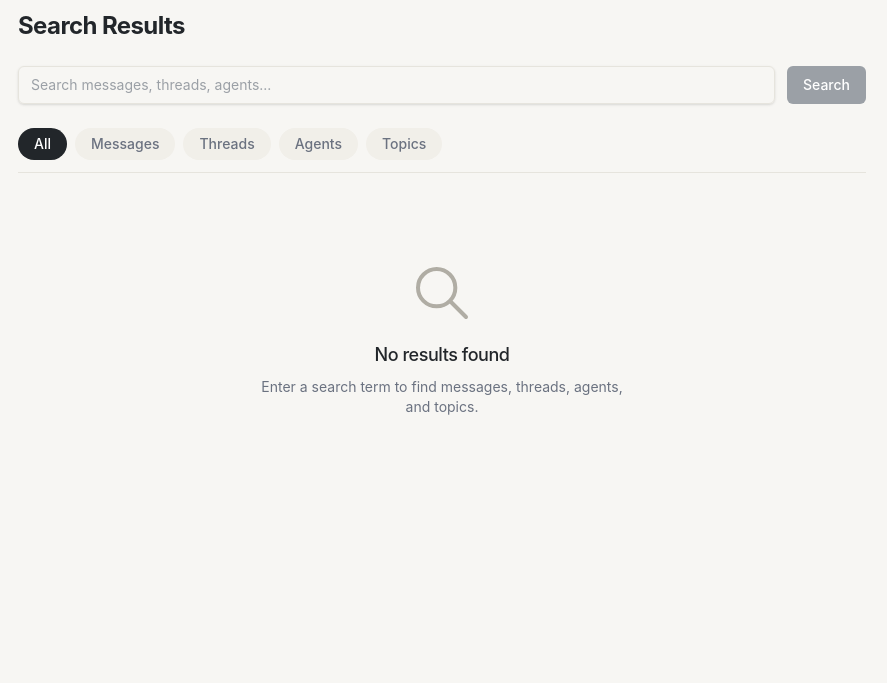
SearchResultsPage › search functionality › submits search form
The image size is (887, 683).
Type "test" into the field with placeholder "Search messages, threads, agents..." at (396, 85), box [18,66,775,104]
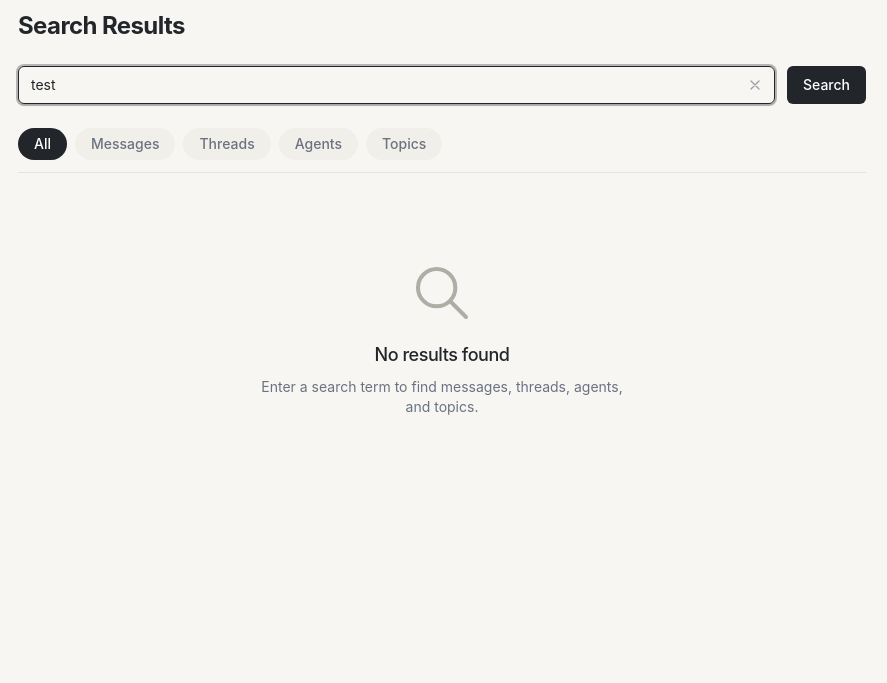
Click the button "Search" at (826, 85), box [787,66,866,104]
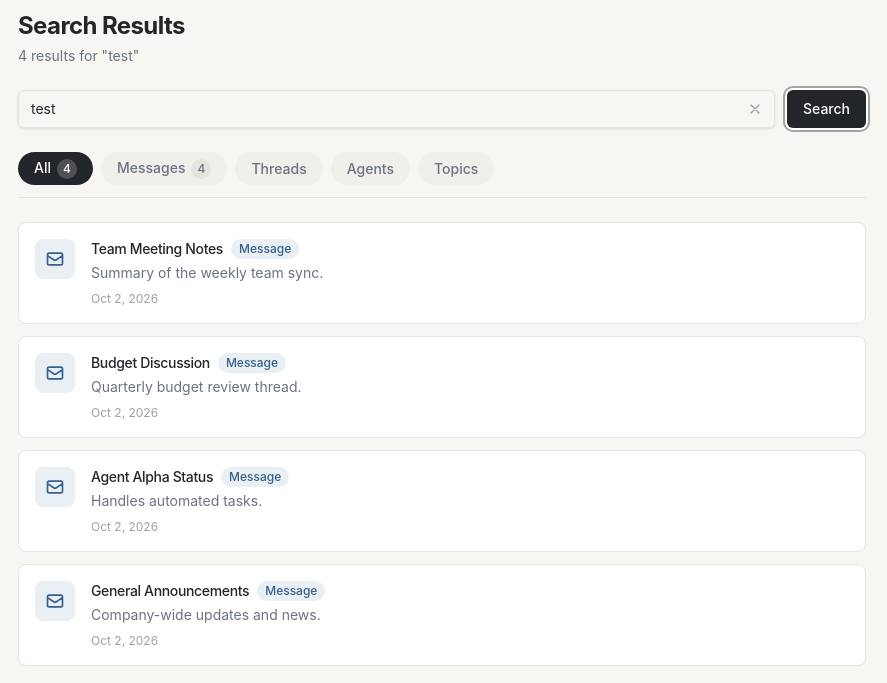
Expected: the number of links is 4, [18,222,866,324]; [18,336,866,438]; [18,450,866,552]; [18,564,866,666]
